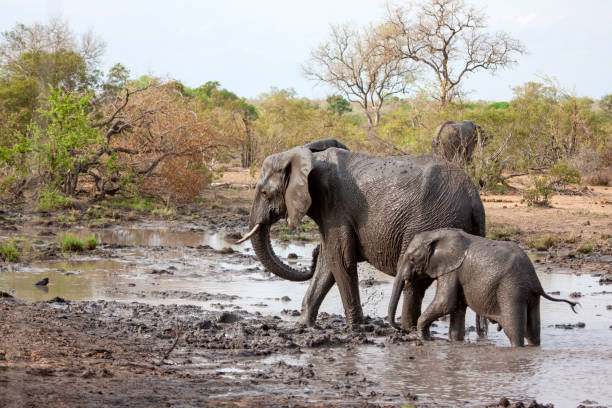africanelephant: (240, 142, 340, 280)
